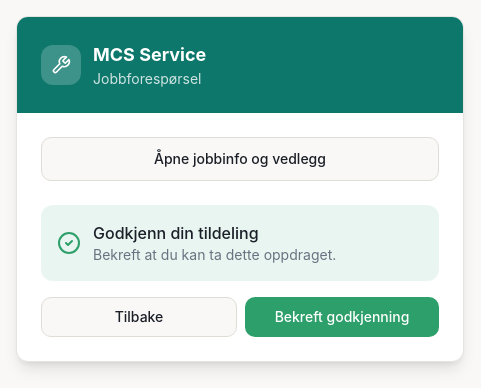
Approval does not remove authenticated job entry › keeps the same job target before and after approval
Click the button "Bekreft godkjenning" at (342, 317), box [245,297,439,337]
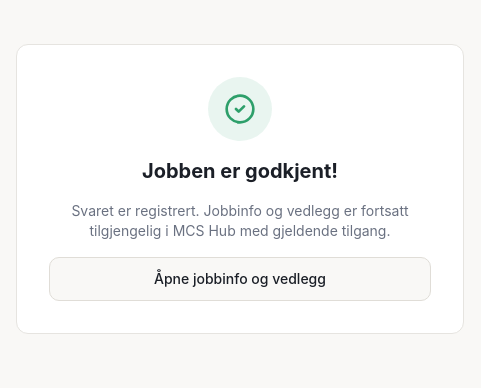
Expected: the heading "Jobben er godkjent!" is shown, [142,159,338,183]
